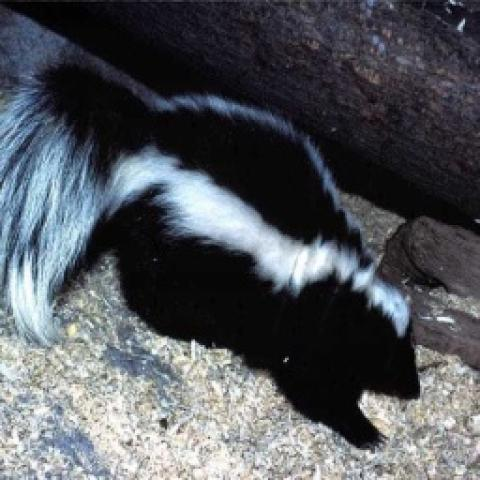small_animal: (0, 57, 424, 451)
